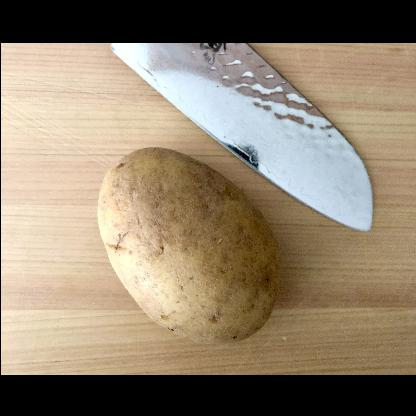potato: (97, 145, 281, 344)
